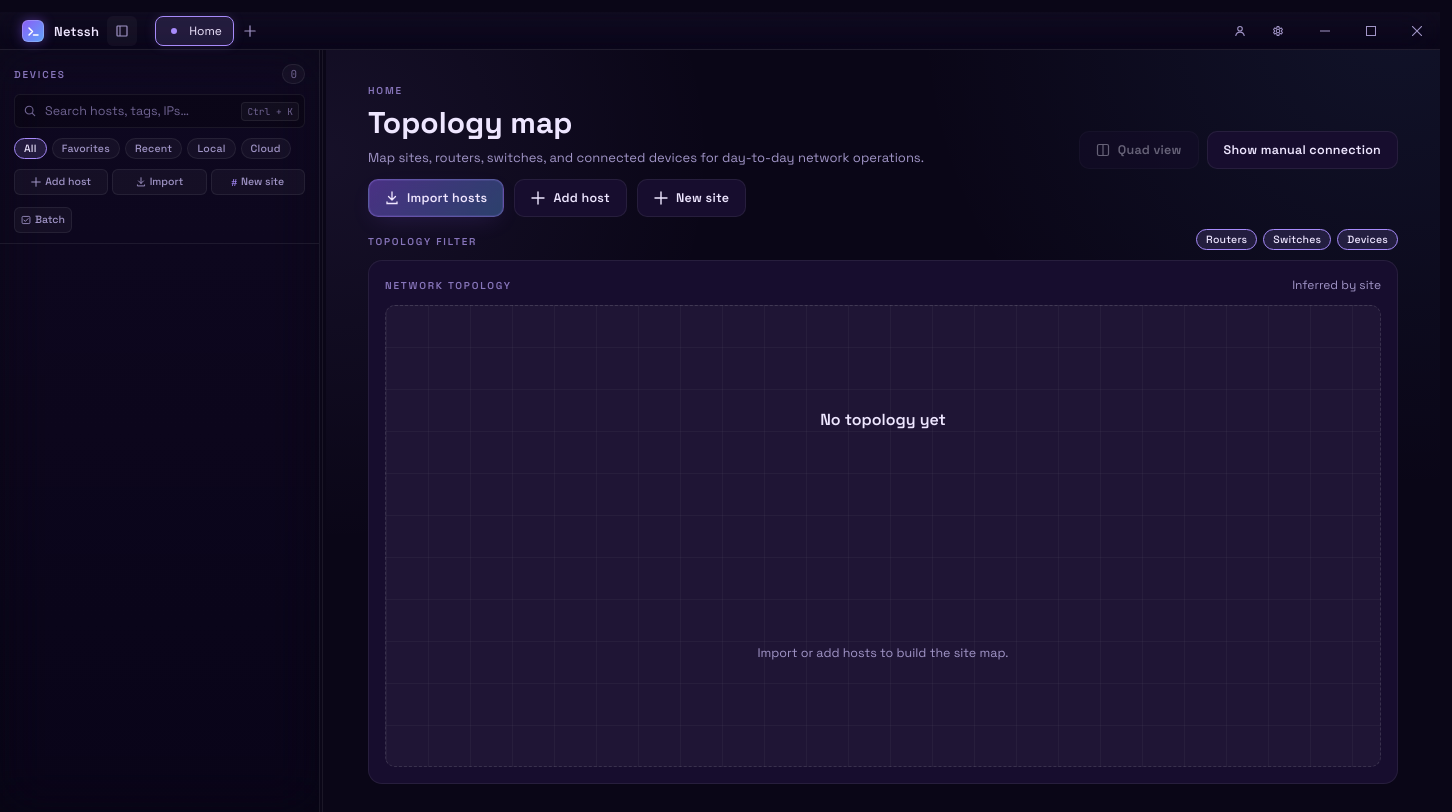
Test: Netssh browser UI smoke › can collapse and expand the device sidebar
This screenshot has width=1452, height=812.
Expected: the element with class "sidebar" is shown, x1=0 y1=50 x2=320 y2=811
Click the button with class "titlebar-sidebar-toggle": (122, 31) x1=107 y1=16 x2=137 y2=46
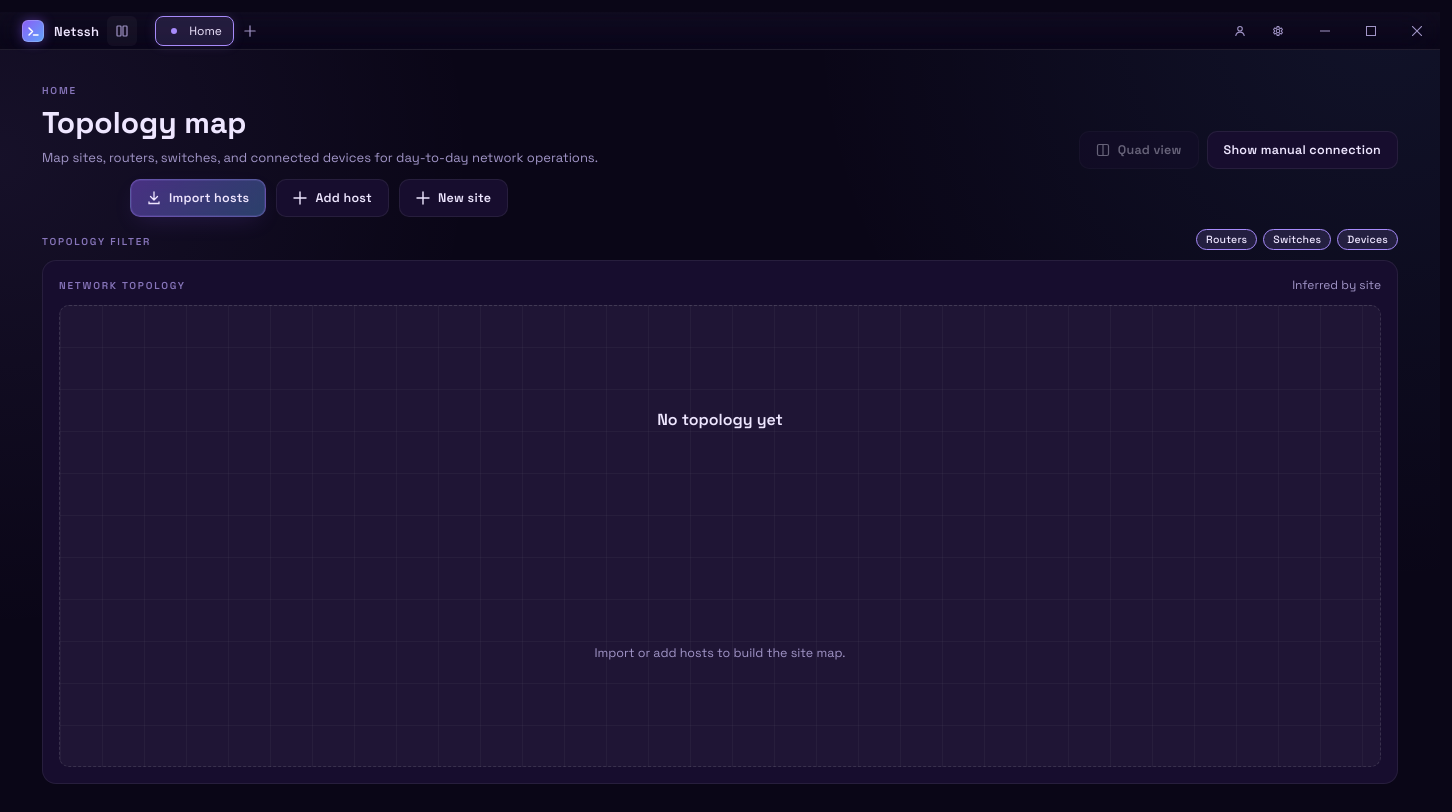
Expected: the element with class "sidebar" is gone
Click the button with class "titlebar-sidebar-toggle": (122, 31) x1=107 y1=16 x2=137 y2=46
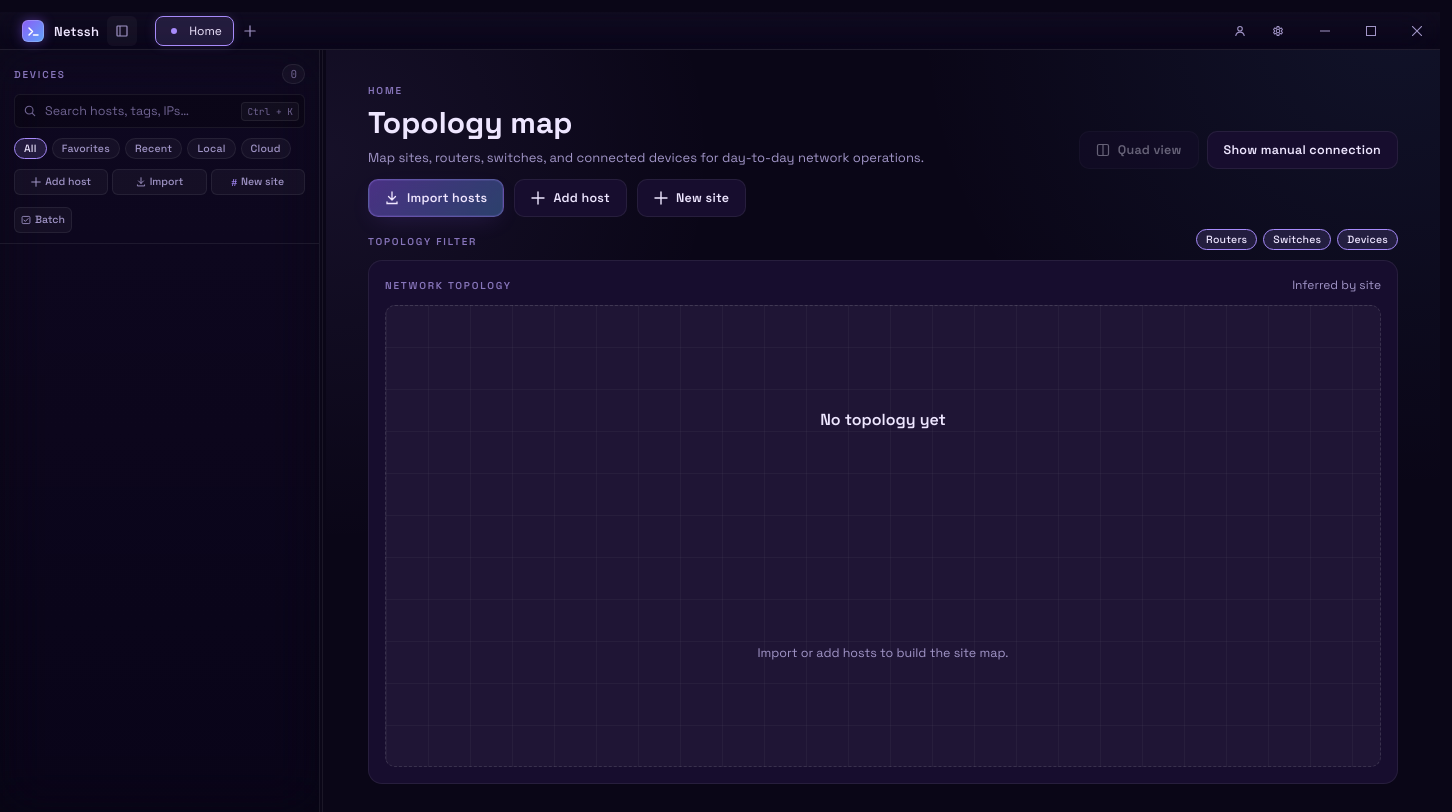
Expected: the element with class "sidebar" is shown, x1=0 y1=50 x2=320 y2=811
